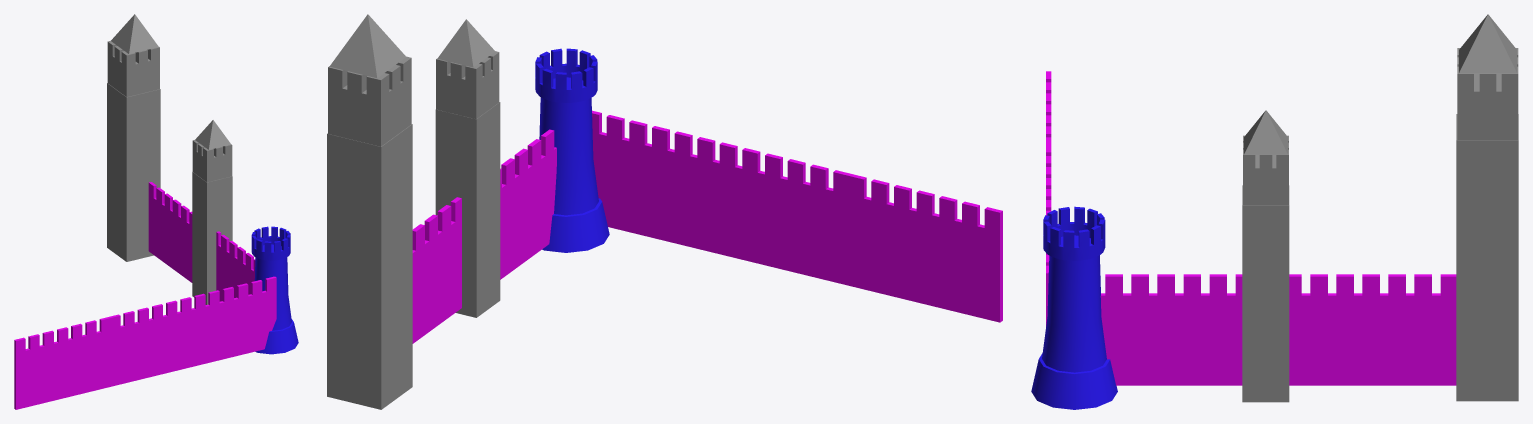
Rendered from StartWall.fbx.
3 views of the same model, side by side, from view 1: azimuth 30°, elevation 25°; view 2: azimuth 150°, elevation 25°; view 3: azimuth 270°, elevation 25° (orthographic). The views are drawn at different scales.
Visible parts, largest first — view 1: Box1376, Box1465, Box1377, Box1469, Box1464, Box1467, Cylinder242, Box1468, Box1471, Box1375, Box1466, Box1470; view 2: Box1376, Box1465, Box1377, Box1469, Cylinder242, Box1468, Box1467, Box1464, Box1471, Box1375, Box1466, Box1470; view 3: Box1464, Box1465, Box1468, Box1469, Cylinder242, Box1467, Box1375, Box1466, Box1471, Box1470, Box1376, Box1377.
Boxes of the visible parts, x1=… form: Box1376: x1=109, y1=276, x2=276, y2=386; Box1465: x1=107, y1=83, x2=160, y2=261; Box1377: x1=14, y1=317, x2=110, y2=409; Box1469: x1=192, y1=172, x2=232, y2=304; Box1464: x1=148, y1=182, x2=192, y2=282; Box1467: x1=107, y1=41, x2=159, y2=96; Cylinder242: x1=254, y1=244, x2=298, y2=354; Box1468: x1=216, y1=231, x2=255, y2=301; Box1471: x1=192, y1=140, x2=232, y2=182; Box1375: x1=251, y1=226, x2=290, y2=260; Box1466: x1=111, y1=14, x2=158, y2=53; Box1470: x1=195, y1=120, x2=231, y2=149; Box1376: x1=592, y1=110, x2=850, y2=285; Box1465: x1=327, y1=124, x2=412, y2=409; Box1377: x1=848, y1=174, x2=1002, y2=322; Box1469: x1=435, y1=102, x2=500, y2=317; Cylinder242: x1=539, y1=77, x2=609, y2=252; Box1468: x1=500, y1=129, x2=556, y2=279; Box1467: x1=328, y1=56, x2=411, y2=146; Box1464: x1=412, y1=197, x2=461, y2=343; Box1471: x1=436, y1=51, x2=499, y2=118; Box1375: x1=535, y1=48, x2=597, y2=102; Box1466: x1=329, y1=14, x2=405, y2=78; Box1470: x1=437, y1=19, x2=495, y2=67; Box1464: x1=1289, y1=274, x2=1456, y2=385; Box1465: x1=1456, y1=114, x2=1518, y2=401; Box1468: x1=1100, y1=274, x2=1242, y2=385; Box1469: x1=1242, y1=185, x2=1289, y2=402; Cylinder242: x1=1031, y1=235, x2=1117, y2=409; Box1467: x1=1457, y1=48, x2=1518, y2=139; Box1375: x1=1043, y1=206, x2=1105, y2=260; Box1466: x1=1459, y1=14, x2=1516, y2=72; Box1471: x1=1243, y1=135, x2=1288, y2=204; Box1470: x1=1244, y1=110, x2=1287, y2=154; Box1376: x1=1046, y1=145, x2=1051, y2=326; Box1377: x1=1046, y1=71, x2=1051, y2=144.
Bounding box in the file's own units: 141 × 110 × 130.
